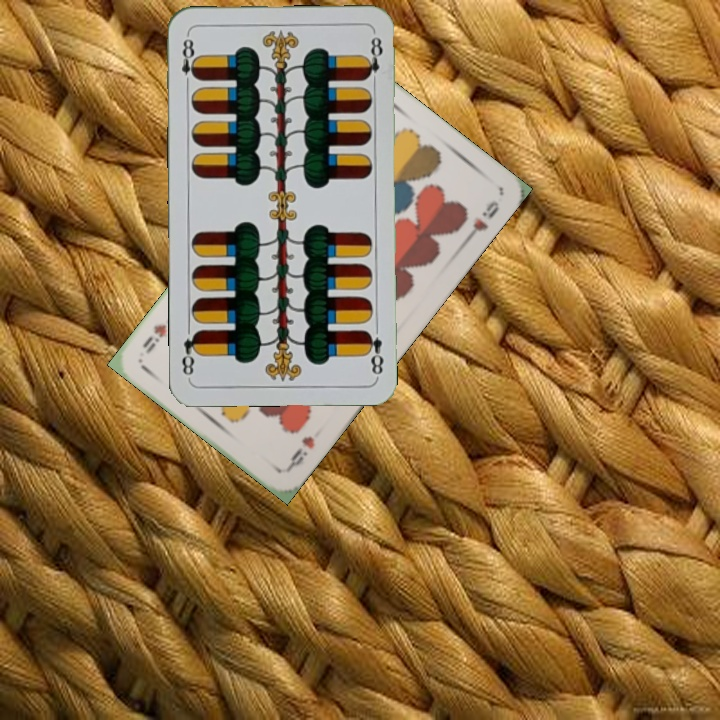E8: (361, 326, 387, 379), (178, 31, 201, 90)
H9: (282, 432, 317, 473)
